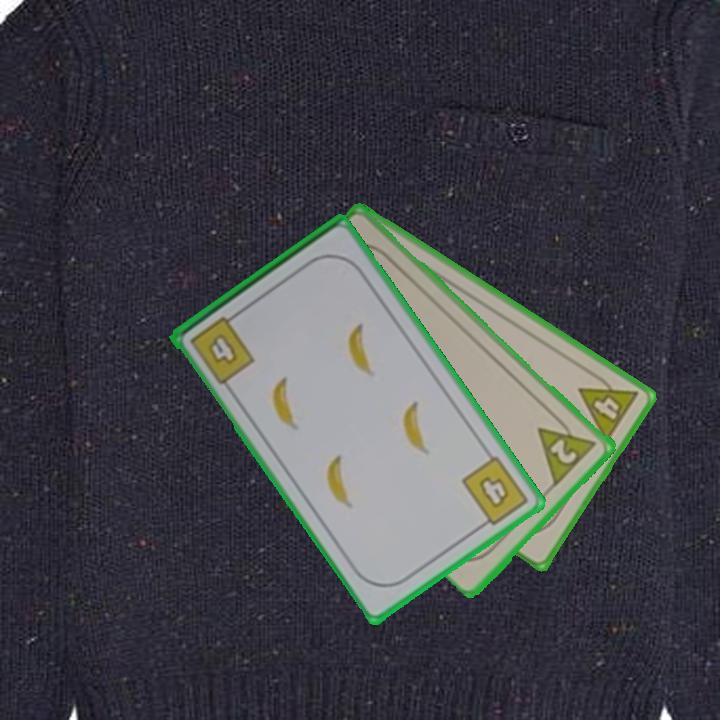2p: (534, 409, 601, 488)
4b: (458, 452, 532, 533), (186, 309, 258, 387)
4p: (575, 367, 642, 446)
